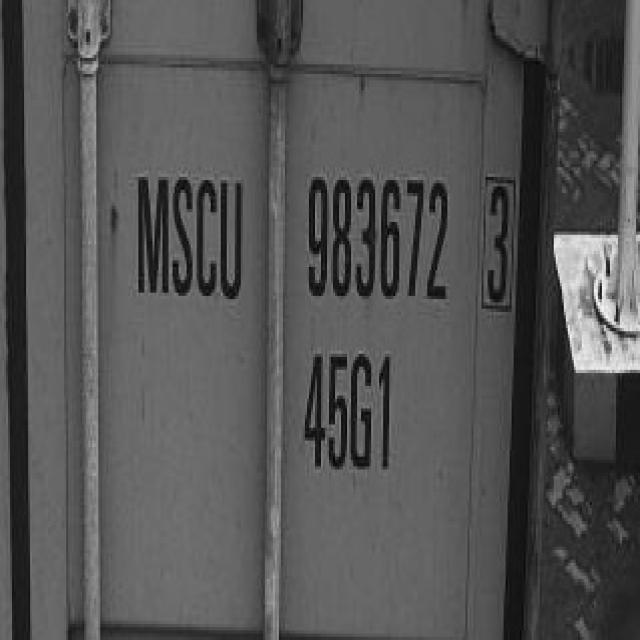dv: (477, 162, 514, 322)
owner: (132, 162, 245, 307)
serial: (304, 160, 450, 315)
size: (301, 343, 399, 488)
